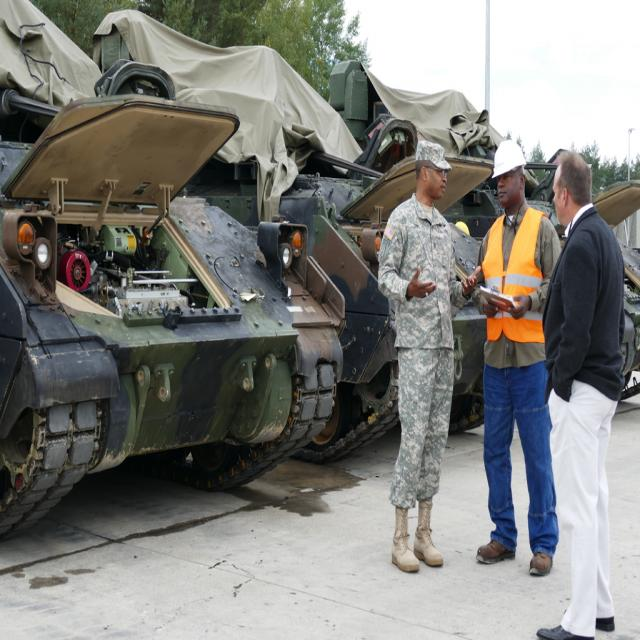tank: (1, 0, 345, 543), (91, 6, 487, 460), (324, 56, 639, 399)
